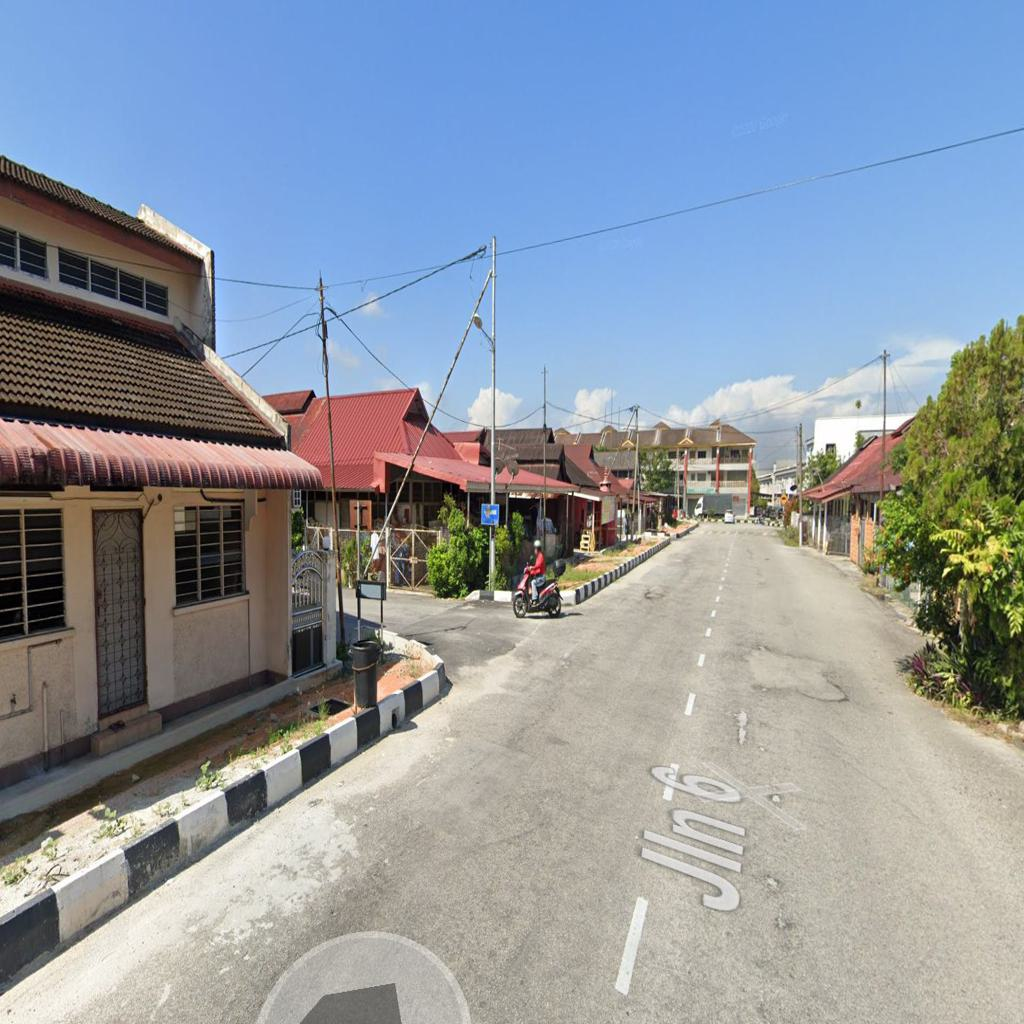Junction: (349, 539, 600, 715)
